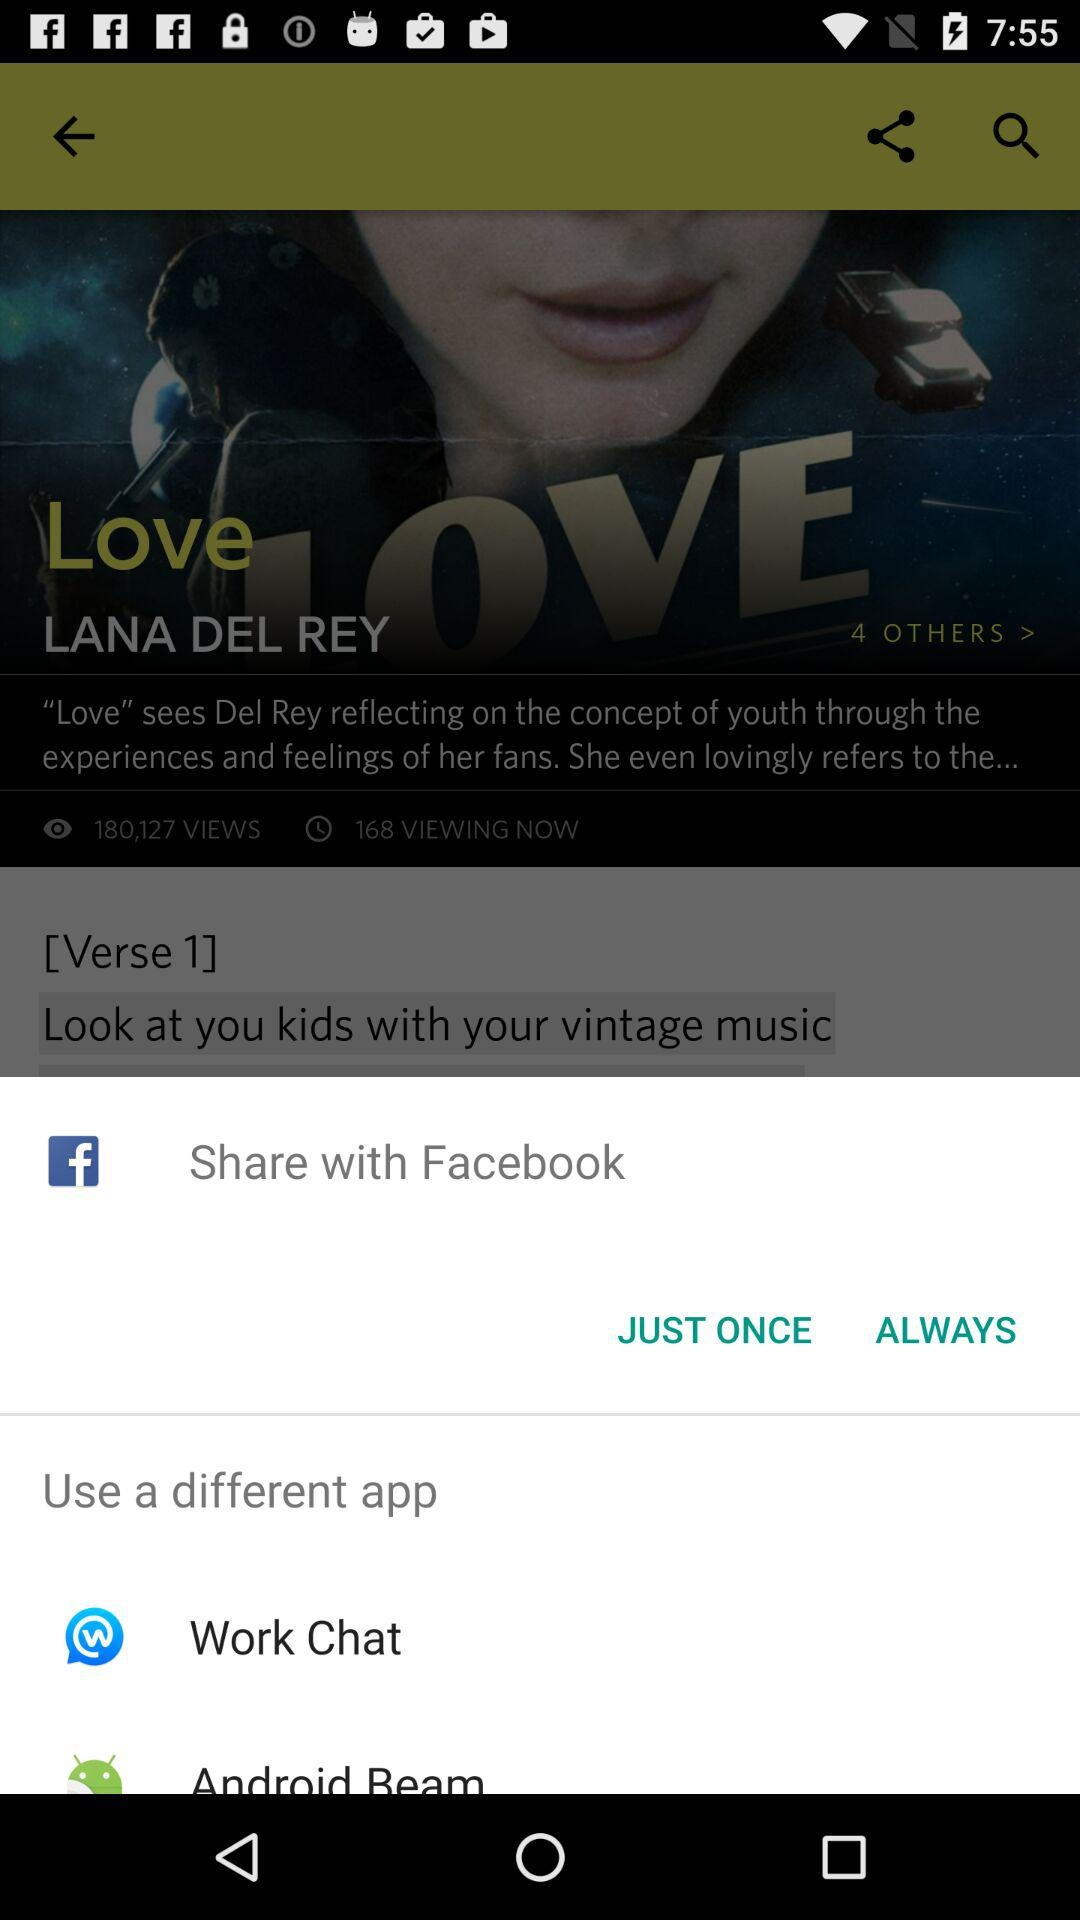Button: (585, 1266, 844, 1393), (844, 1266, 1048, 1393)
ImageView: (42, 1130, 105, 1192)
TextView: (5, 1416, 1075, 1563), (189, 1077, 1075, 1245), (189, 1751, 487, 1793)
